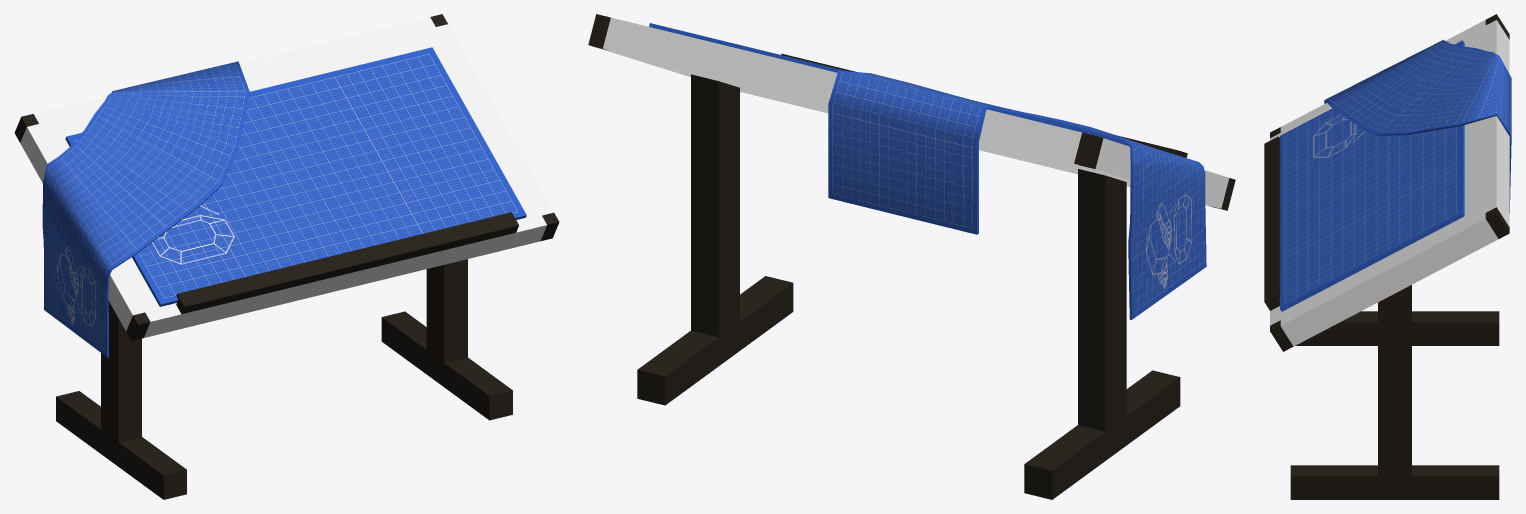
The model's file is drafting_table.glb.
3 renders of one model, left to right at view 1: azimuth 30°, elevation 25°; view 2: azimuth 150°, elevation 25°; view 3: azimuth 270°, elevation 25°, orthographic. The views are drawn at different scales.
Parts seen in each view (by area): view 1: Plane, Plane.001, Cube, Cube.001; view 2: Cube.001, Plane.001, Cube, Plane; view 3: Plane, Cube, Cube.001, Plane.001.
Boxes of the visible parts, box(x1,y1,x2,y2) form: Plane: box(65, 47, 526, 306); Plane.001: box(42, 61, 249, 357); Cube: box(14, 14, 559, 340); Cube.001: box(56, 259, 512, 499); Cube.001: box(637, 74, 1180, 499); Plane.001: box(828, 70, 1206, 319); Cube: box(588, 14, 1235, 210); Plane: box(649, 23, 1127, 145); Plane: box(1280, 40, 1464, 311); Cube: box(1264, 14, 1509, 351); Cube.001: box(1290, 285, 1499, 499); Plane.001: box(1324, 39, 1511, 213).
Size of the model in its own units: 36.36 by 25.85 by 18.92.
Materials: 3 (1 with a texture image).
